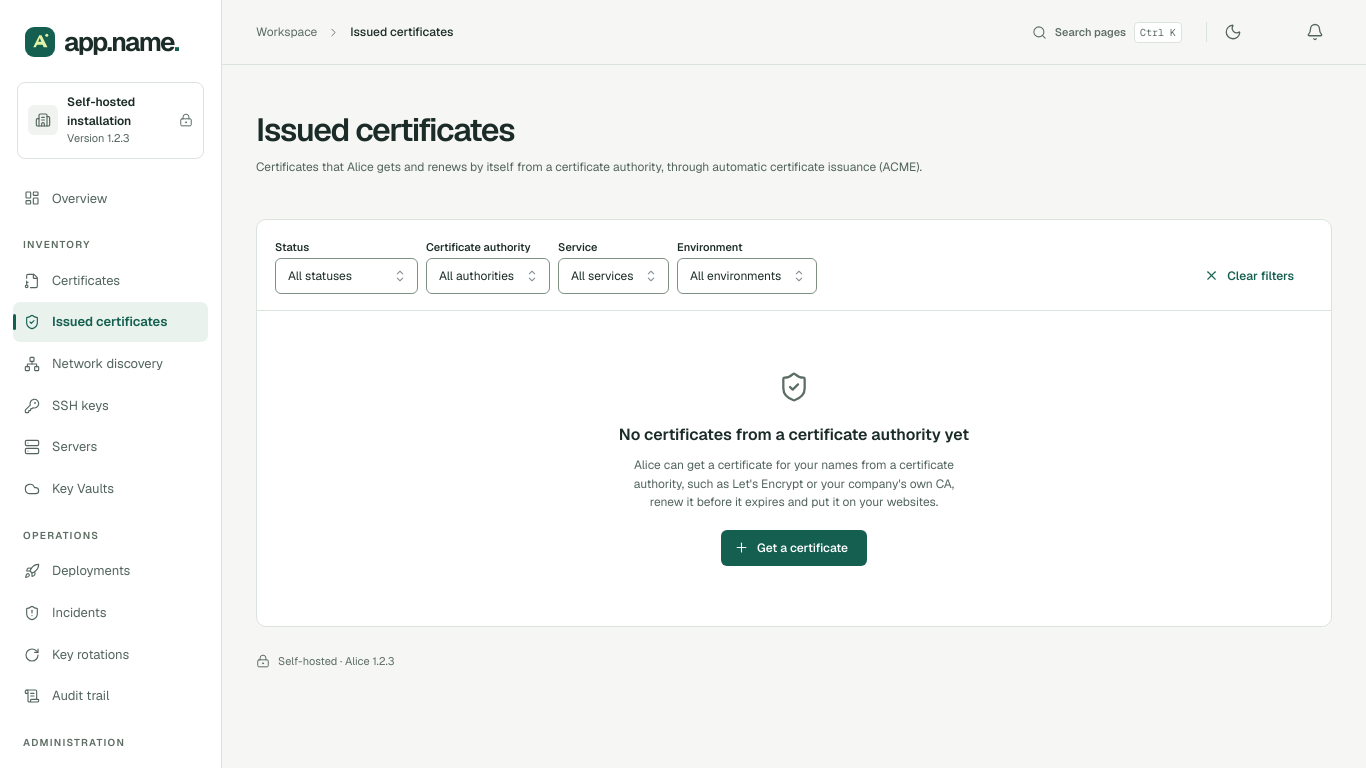
Issued certificates list › opens the wizard from the empty state
Step 1. Click the button "Get a certificate" → click(794, 548), box left=721, top=530, right=867, bottom=566
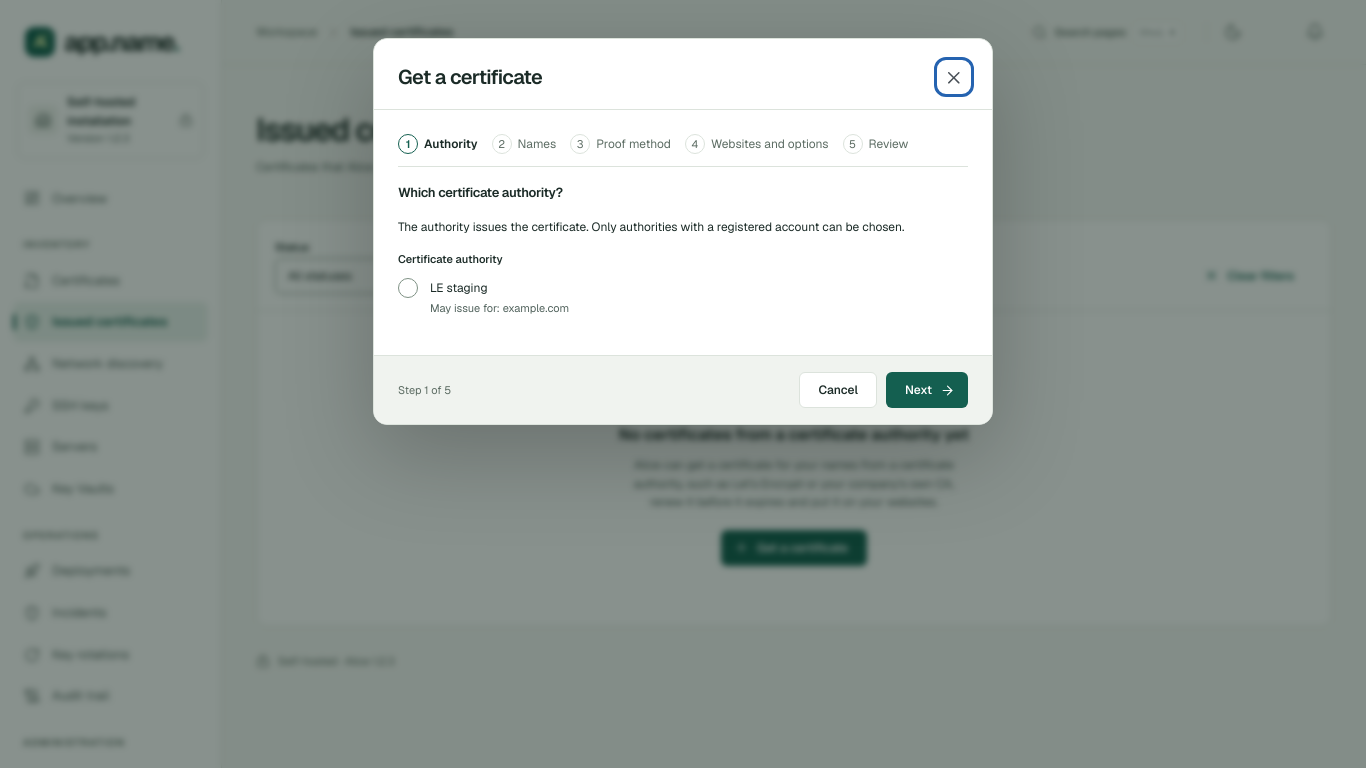
Expected: the dialog "Get a certificate" is shown, left=373, top=38, right=993, bottom=425
